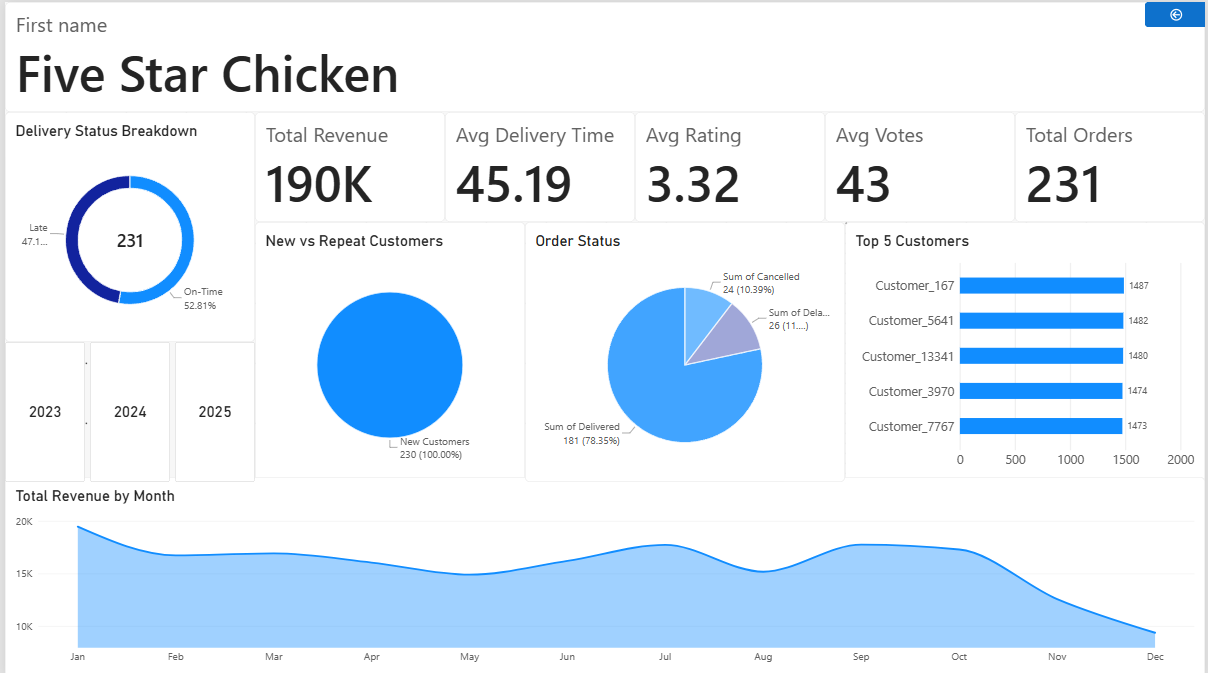

The dashboard page shown, as its layout file describes it:
{"tool":"powerbi","page":{"name":"Restaurant's Details","canvas":[1920,1080],"ordinal":4},"visuals":[{"type":"cardVisual","fields":{"Data":["Orders.Total Orders"]},"box":[1616,176,304,176],"z":0,"group":"g1"},{"type":"cardVisual","fields":{"Data":["Orders.Avg Votes"]},"box":[1312,176,304,176],"z":1,"group":"g1"},{"type":"cardVisual","fields":{"Data":["Orders.Avg Delivery Time"]},"box":[704,176,304,176],"z":2,"group":"g1"},{"type":"cardVisual","title":"Restaurant Name","fields":{"Data":["Min(Restaurants.name)"]},"box":[0,0,1920,176],"z":3},{"type":"cardVisual","fields":{"Data":["Orders.Total Revenue"]},"box":[400,176,304,176],"z":4,"group":"g1"},{"type":"cardVisual","fields":{"Data":["Orders.Avg Rating"]},"box":[1008,176,304,176],"z":5,"group":"g1"},{"type":"group","id":"g1","title":"Group 1","box":[400,176,1520,176],"z":6},{"type":"pieChart","title":"New vs Repeat Customers","fields":{"Y":["Orders.New Customers","Orders.Repeat Customers"]},"box":[400,352,432,416],"z":7},{"type":"clusteredBarChart","title":"Top 5 Customers","fields":{"Category":["Customers.CustomerName"],"Y":["Orders.Total Revenue"]},"box":[1344,352,576,416],"z":8},{"type":"areaChart","title":"Total Revenue by Month","fields":{"Category":["DateTable.MonthName"],"Y":["Orders.Total Revenue"]},"box":[0,760,1920,320],"z":9},{"type":"pieChart","title":"Order Status","fields":{"Y":["Sum(Orders.Cancelled)","Sum(Orders.Delayed)","Sum(Orders.Delivered)"]},"box":[832,352,512,416],"z":10},{"type":"donutChart","title":"Delivery Status Breakdown","fields":{"Category":["Orders.DeliveryStatus"],"Y":["Orders.Total Orders"]},"box":[0,176,400,368],"z":11},{"type":"advancedSlicerVisual","fields":{"Values":["DateTable.Year"]},"box":[0,544,400,224],"z":12},{"type":"actionButton","box":[0,0,100,40],"z":13}]}

Visuals, with their boxes in screenshot pixels (x1, y1, x2, y2), scaled from the page's 1920x1080 canvas onto the 1208x673 screenshot:
cardVisual - Orders.Total Orders: l=1017, t=110, r=1207, b=219
cardVisual - Orders.Avg Votes: l=825, t=110, r=1017, b=219
cardVisual - Orders.Avg Delivery Time: l=443, t=110, r=634, b=219
"Restaurant Name" cardVisual: l=0, t=0, r=1207, b=110
cardVisual - Orders.Total Revenue: l=252, t=110, r=443, b=219
cardVisual - Orders.Avg Rating: l=634, t=110, r=825, b=219
"Group 1" group: l=252, t=110, r=1207, b=219
"New vs Repeat Customers" pieChart: l=252, t=219, r=523, b=479
"Top 5 Customers" clusteredBarChart: l=846, t=219, r=1207, b=479
"Total Revenue by Month" areaChart: l=0, t=474, r=1207, b=672
"Order Status" pieChart: l=523, t=219, r=846, b=479
"Delivery Status Breakdown" donutChart: l=0, t=110, r=252, b=339
advancedSlicerVisual - DateTable.Year: l=0, t=339, r=252, b=479
actionButton: l=0, t=0, r=63, b=25
